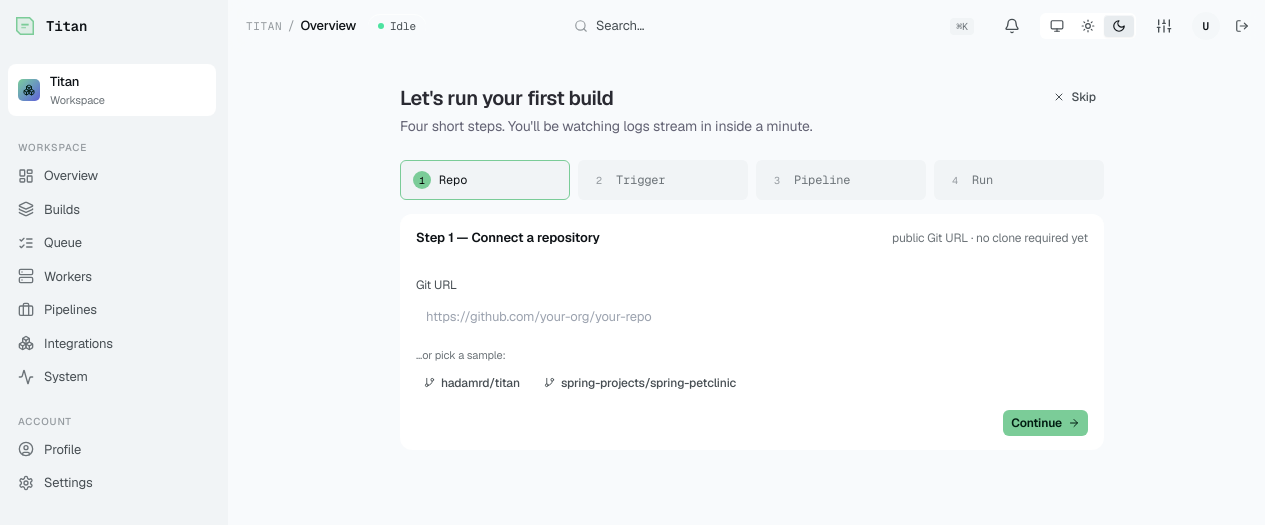
Onboarding manual route /onboarding/manual › advances from step 1 to step 2 after entering a repo URL
Step 1. Type "https://github.com/hadamrd/titan" into the field labelled "Git URL" → point(752, 316), box [416,300,1088,333]
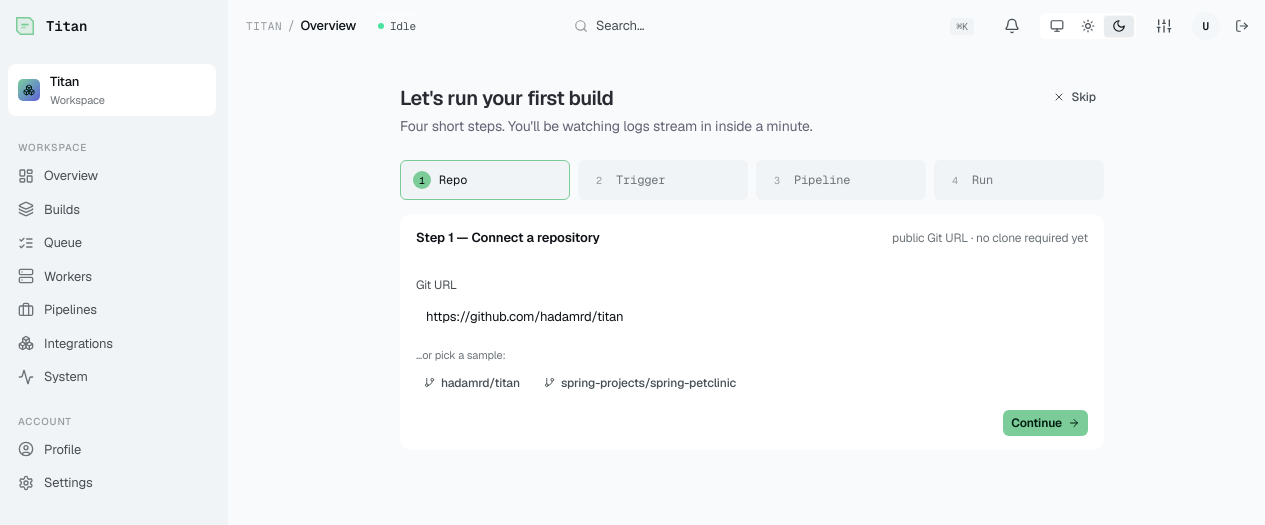
Step 2. Click the button "Continue" → point(1046, 422), box [1003,410,1088,436]
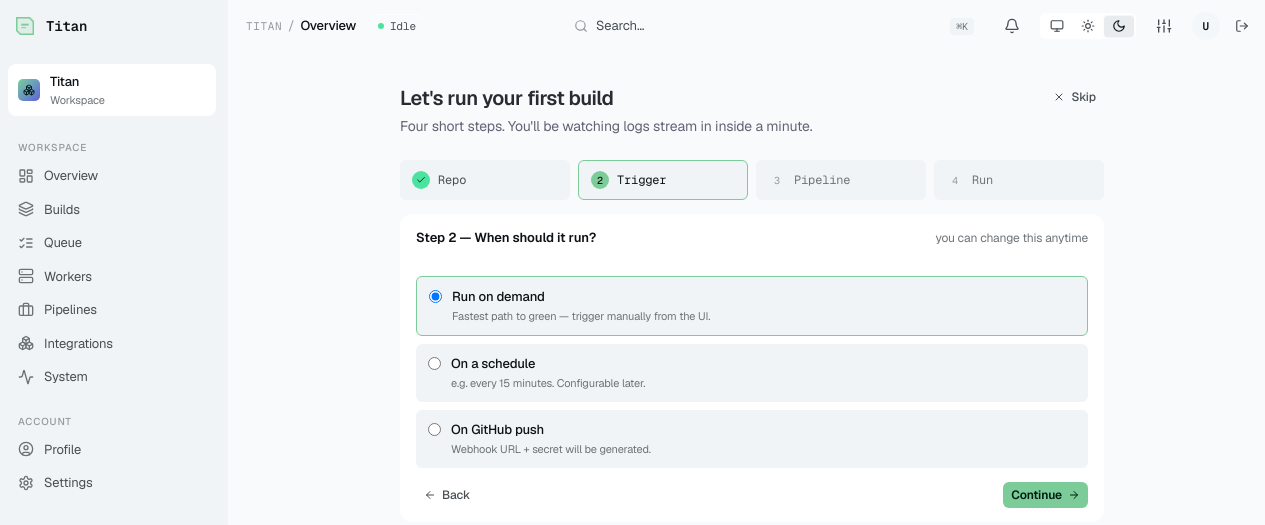
Expected: the heading "Step 2 — When should it run?" is shown, [416,228,596,248]
Expected: the element named "trigger-kind" is shown, [416,276,1088,468]
